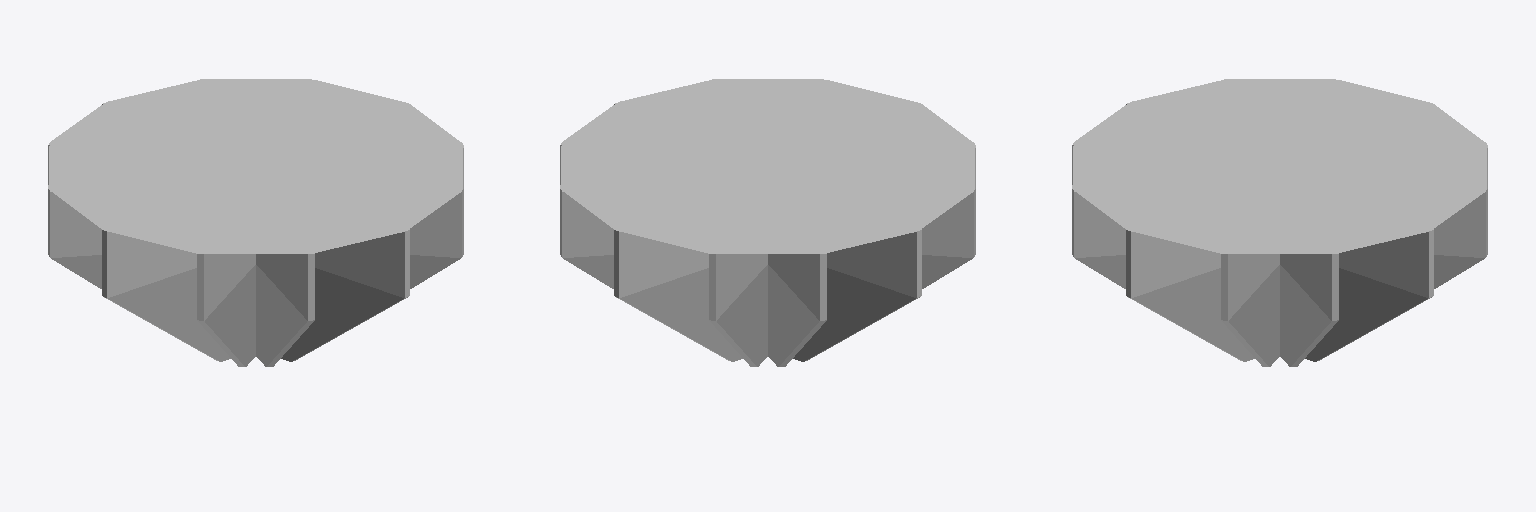
The model's file is 3Ratchet.obj.
3 renders of one model, left to right at view 1: azimuth 30°, elevation 25°; view 2: azimuth 150°, elevation 25°; view 3: azimuth 270°, elevation 25°, orthographic.
Parts seen in each view (by area): view 1: 3Ratchet; view 2: 3Ratchet; view 3: 3Ratchet.
Boxes of the visible parts, <box> form: 3Ratchet: <box>48,79,463,366</box>; 3Ratchet: <box>560,79,975,366</box>; 3Ratchet: <box>1072,79,1487,366</box>.
Size of the model in its own units: 2.79 by 1.32 by 2.79.